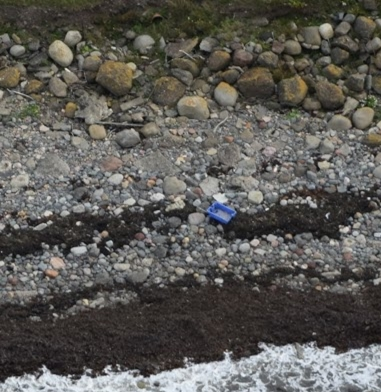cuboid: (200, 192, 243, 230)
